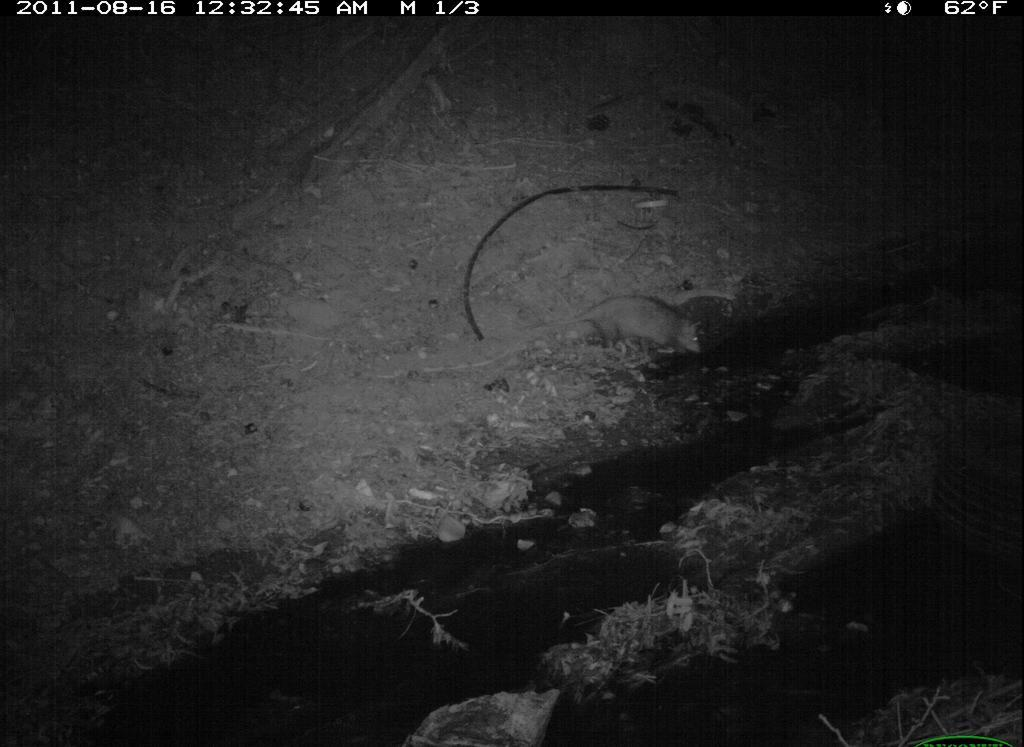opossum: (539, 281, 715, 378)
